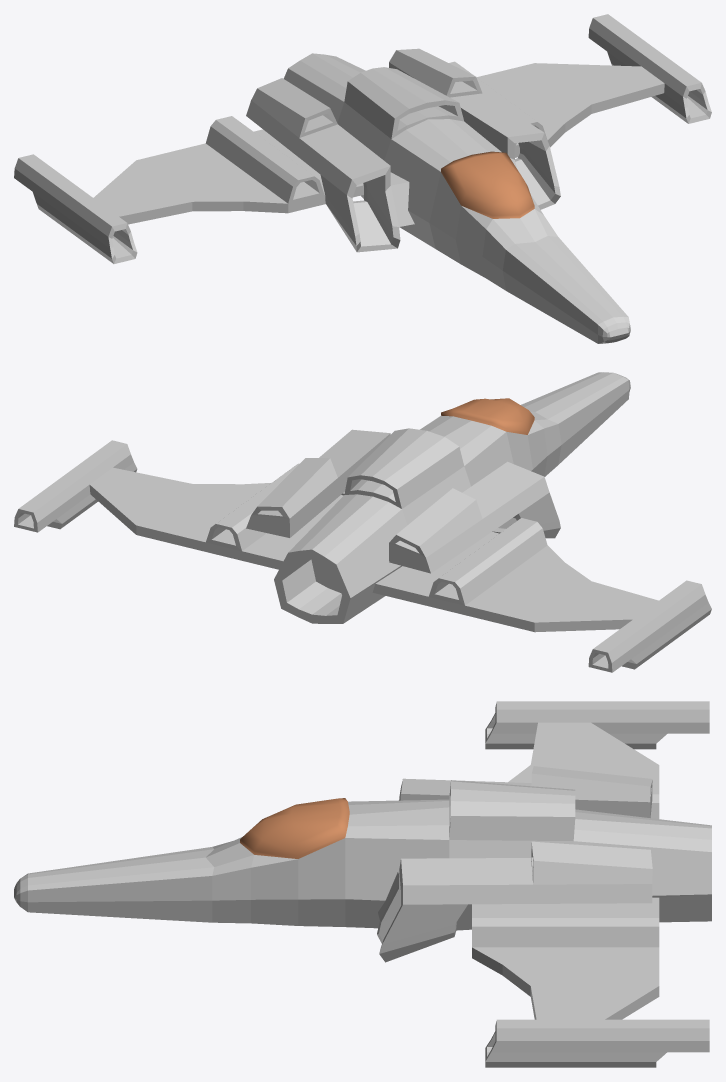
File: quaternius-spaceships-spaceship-3.glb
3 renders of one model, top to bottom at view 1: azimuth 30°, elevation 25°; view 2: azimuth 150°, elevation 25°; view 3: azimuth 270°, elevation 25°, orthographic. The views are drawn at different scales.
Visible parts, largest first — view 1: Spaceship3; view 2: Spaceship3; view 3: Spaceship3.
Part boxes in pixels (left/top/right/bottom): Spaceship3: left=14, top=14, right=711, bottom=343; Spaceship3: left=14, top=372, right=711, bottom=672; Spaceship3: left=14, top=701, right=711, bottom=1067.
Bounding box in the file's own units: 10.38 × 1.86 × 9.21.
